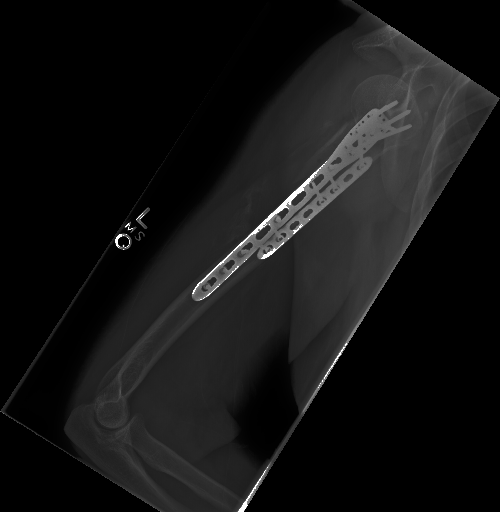implant: (187, 97, 421, 305), (258, 153, 380, 259)
